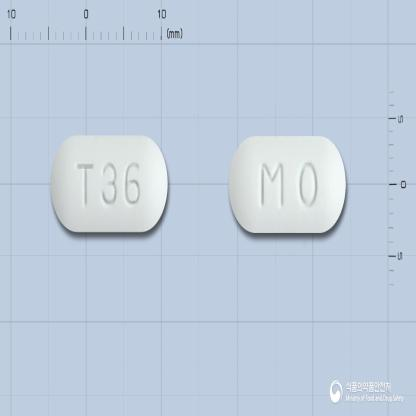pill: (48, 131, 170, 235), (227, 133, 348, 234)
